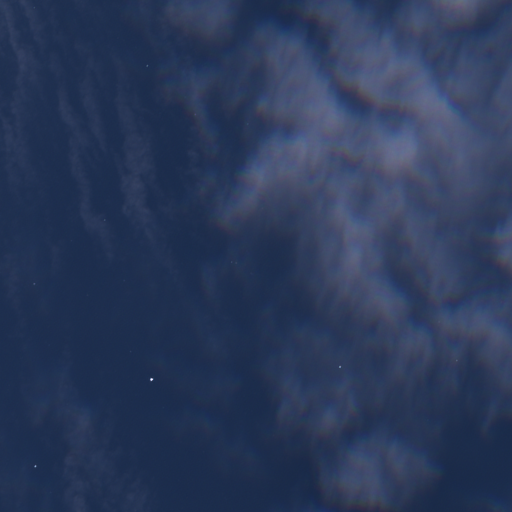Iceberg: (150, 378, 153, 381), (146, 64, 148, 66), (34, 465, 36, 467), (33, 283, 34, 284), (339, 366, 340, 367)
